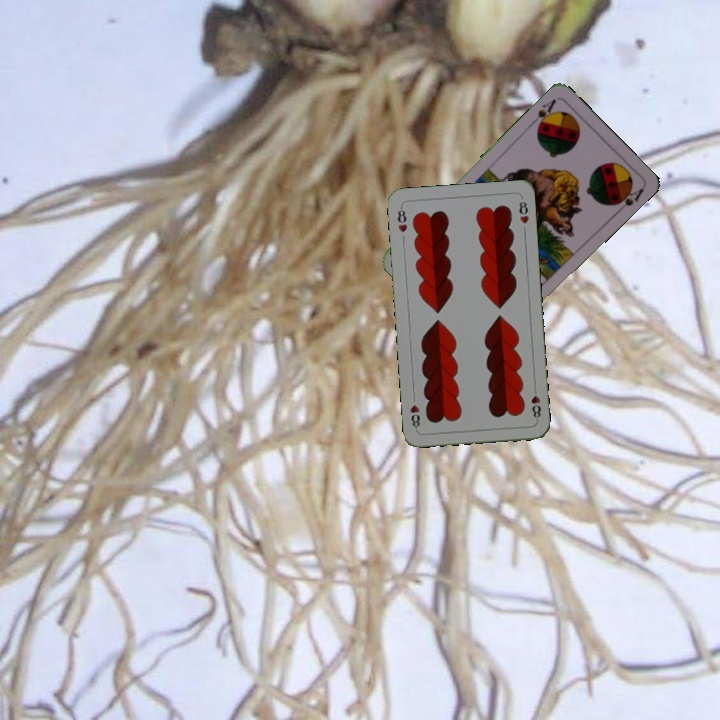H8: (527, 383, 543, 423), (393, 203, 410, 235)
SA: (527, 95, 559, 132)
